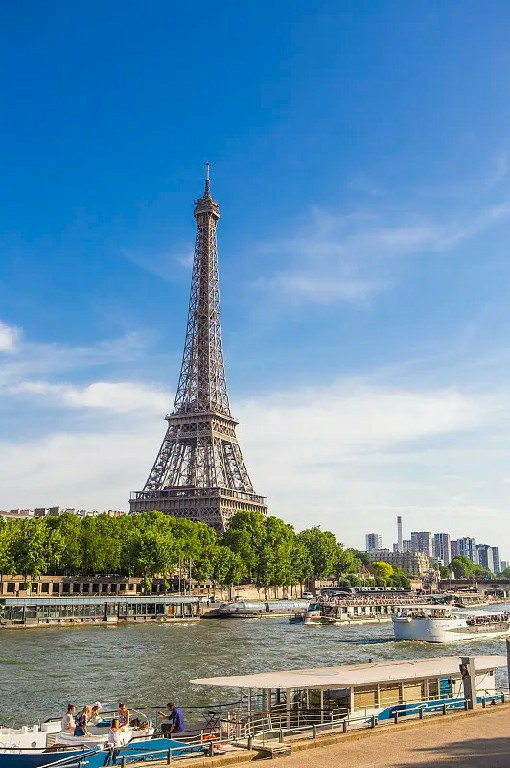Eiffel: (126, 163, 267, 541)
